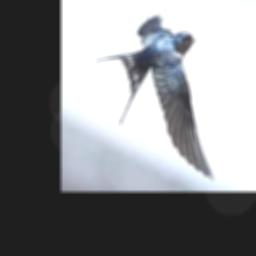Swallow: (97, 13, 216, 182)
